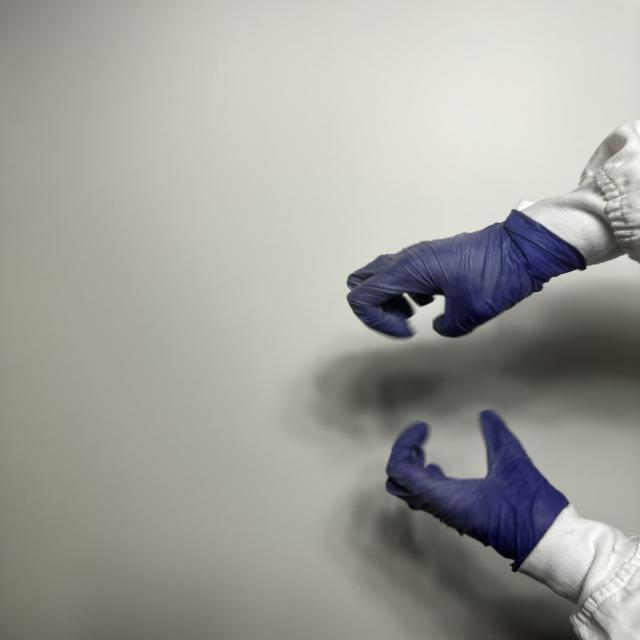gloves_contaminated: (347, 210, 586, 337), (386, 411, 568, 571)
